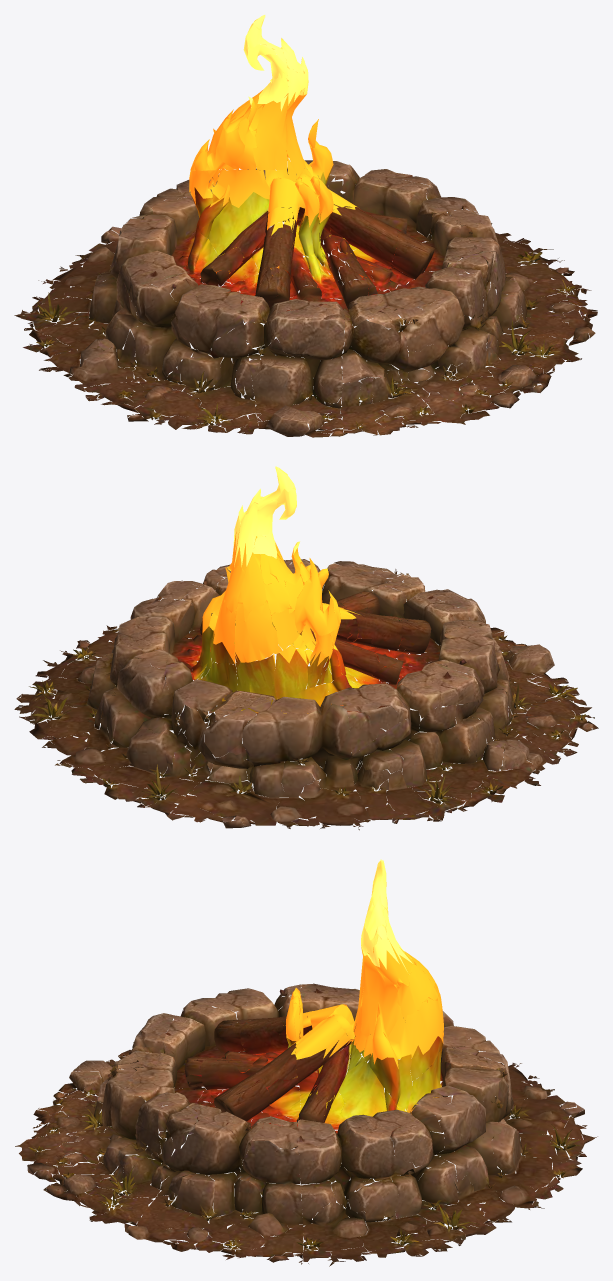
File: feu_camp_t2.glb
3 views of the same model, one above another, from view 1: azimuth 30°, elevation 25°; view 2: azimuth 150°, elevation 25°; view 3: azimuth 270°, elevation 25° (orthographic).
Parts seen in each view (by area): view 1: feu_camp_t2; view 2: feu_camp_t2; view 3: feu_camp_t2.
Boxes of the visible parts, x1,y1,x2,y2 form: feu_camp_t2: [14, 15, 597, 437]; feu_camp_t2: [14, 466, 598, 830]; feu_camp_t2: [15, 859, 597, 1266].
Size of the model in its own units: 0.9964 by 0.5281 by 0.9903.
3 materials, 1 textured.
